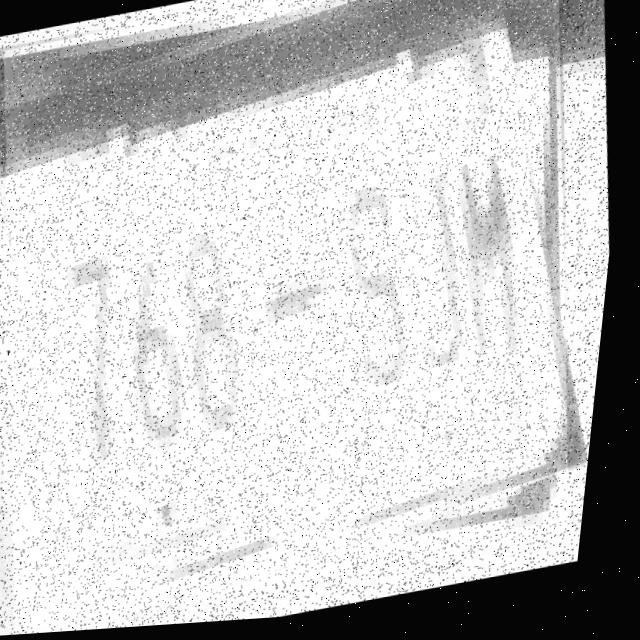LicensePlate: (0, 0, 628, 636)
